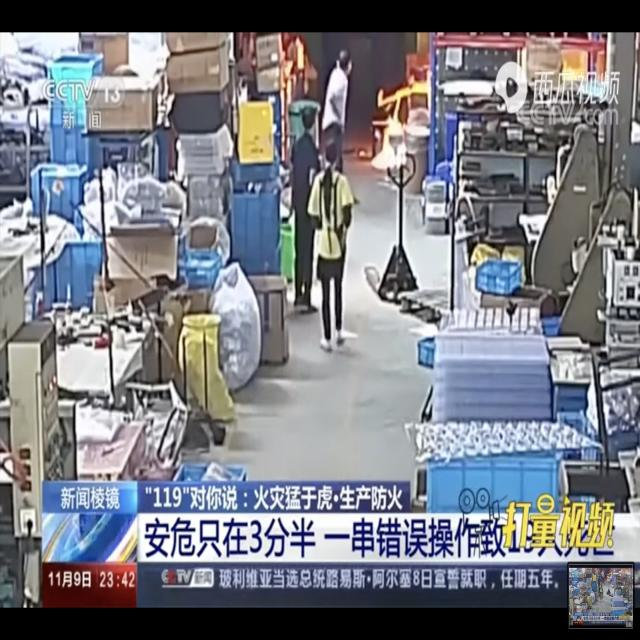Fogo: (367, 93, 419, 186)
